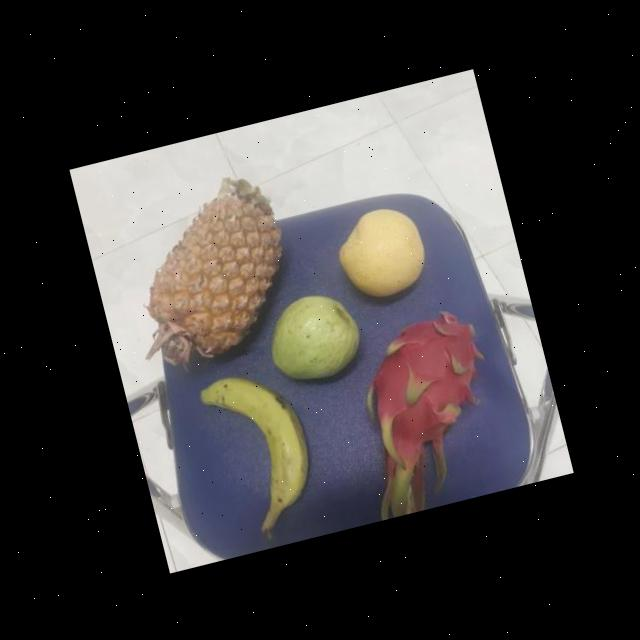banana: (199, 366, 325, 526)
guava: (258, 283, 368, 387)
pear: (328, 199, 436, 305)
pineapple: (120, 174, 308, 373)
pitaya: (347, 306, 509, 472)
